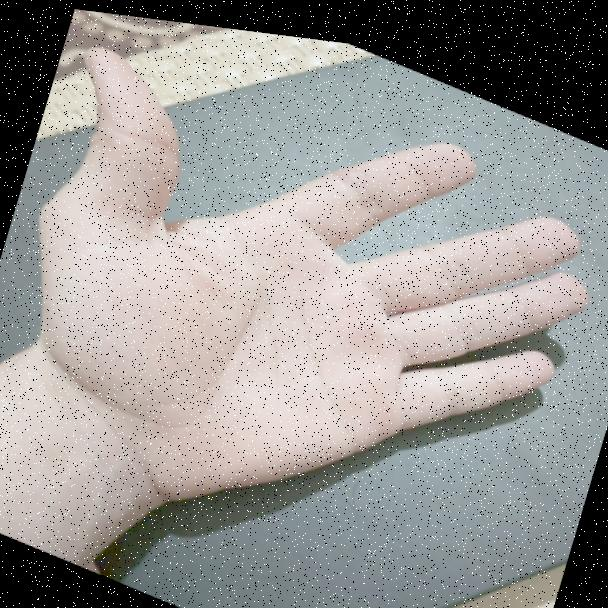five: (11, 18, 602, 512)
